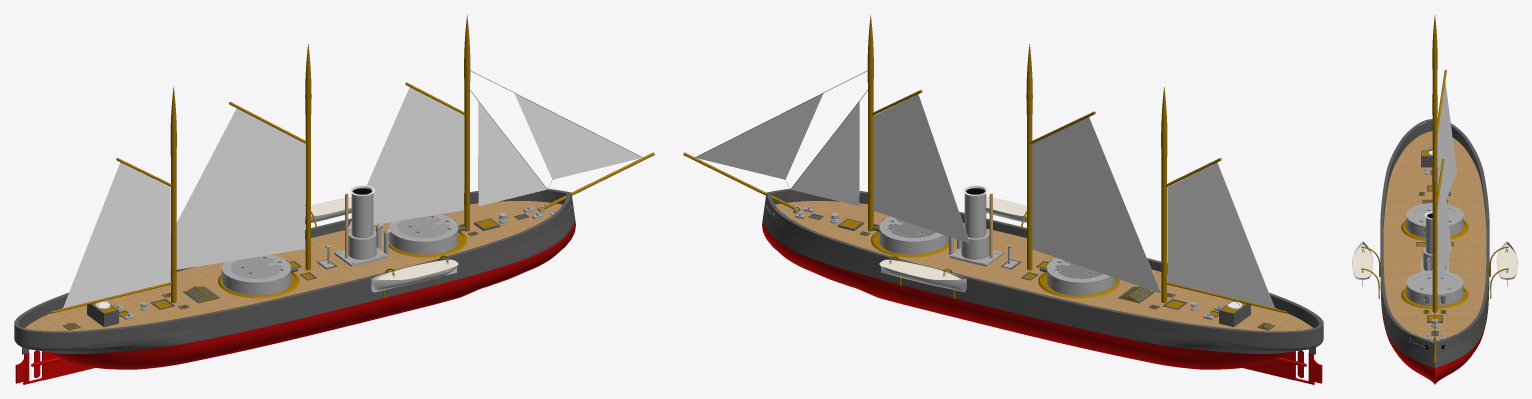
Rendered from rolf_krake_1863.glb.
The picture shows the model from 3 angles, left to right: view 1: azimuth 30°, elevation 25°; view 2: azimuth 150°, elevation 25°; view 3: azimuth 270°, elevation 25°; orthographic projection. The views are drawn at different scales.
Visible parts, largest first — view 1: Material2 (×16), Material3; view 2: Material2 (×16), Material3; view 3: Material2 (×17), Material3 (×2).
Part boxes in pixels (<box>): Material2 (×16): <box>14,14,642,384</box>; Material3: <box>377,260,457,279</box>; Material2 (×16): <box>695,14,1323,384</box>; Material3: <box>880,260,960,279</box>; Material2 (×17): <box>1352,15,1517,384</box>; Material3 (×2): <box>1352,244,1517,277</box>.
Bounding box in the file's own units: 2552 × 1049 × 694.
Materials: 13 (2 with a texture image).
